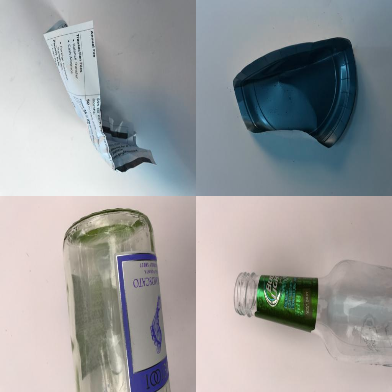glass: (62, 208, 173, 392), (233, 259, 392, 367)
paper: (42, 20, 157, 172), (233, 37, 360, 149)
